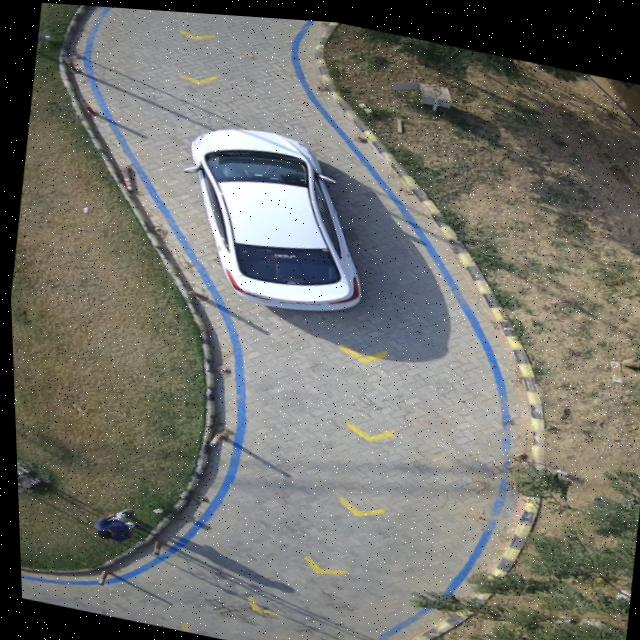car: (186, 126, 358, 306)
